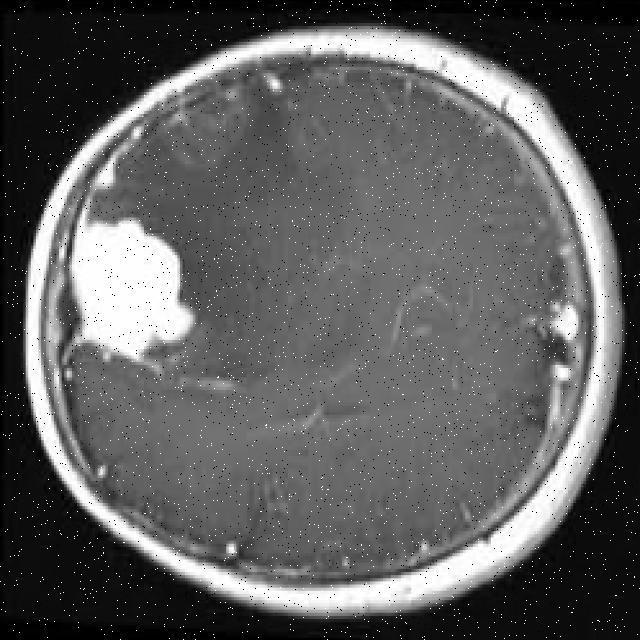Meningioma: (72, 219, 194, 361)
